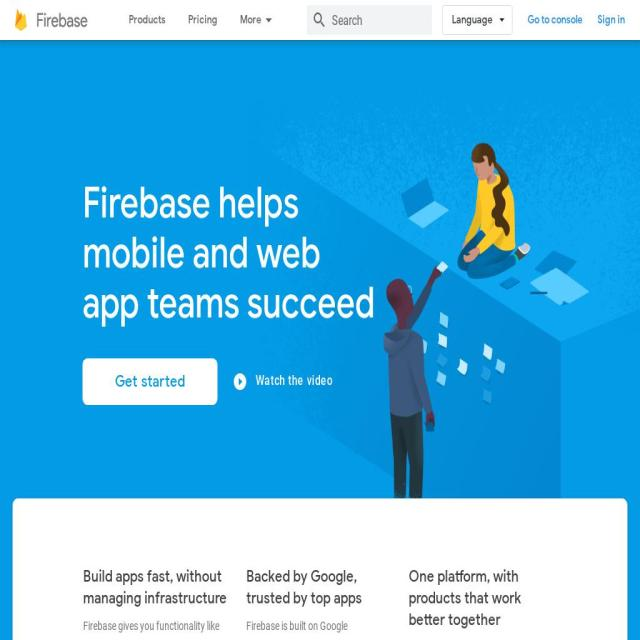button: (83, 358, 218, 405), (228, 363, 340, 400), (442, 5, 512, 35), (522, 5, 588, 35), (15, 7, 87, 33), (592, 5, 630, 35)
field: (307, 5, 432, 35)
heading: (82, 178, 298, 328), (83, 276, 375, 330), (82, 226, 320, 280), (408, 566, 558, 631), (83, 566, 231, 609), (246, 566, 394, 609)
image: (15, 7, 87, 33)
link: (128, 0, 166, 40), (240, 0, 276, 40), (188, 0, 218, 40), (233, 372, 248, 392)
text: (83, 616, 231, 640), (246, 616, 394, 640), (253, 373, 333, 389), (408, 637, 557, 640)
